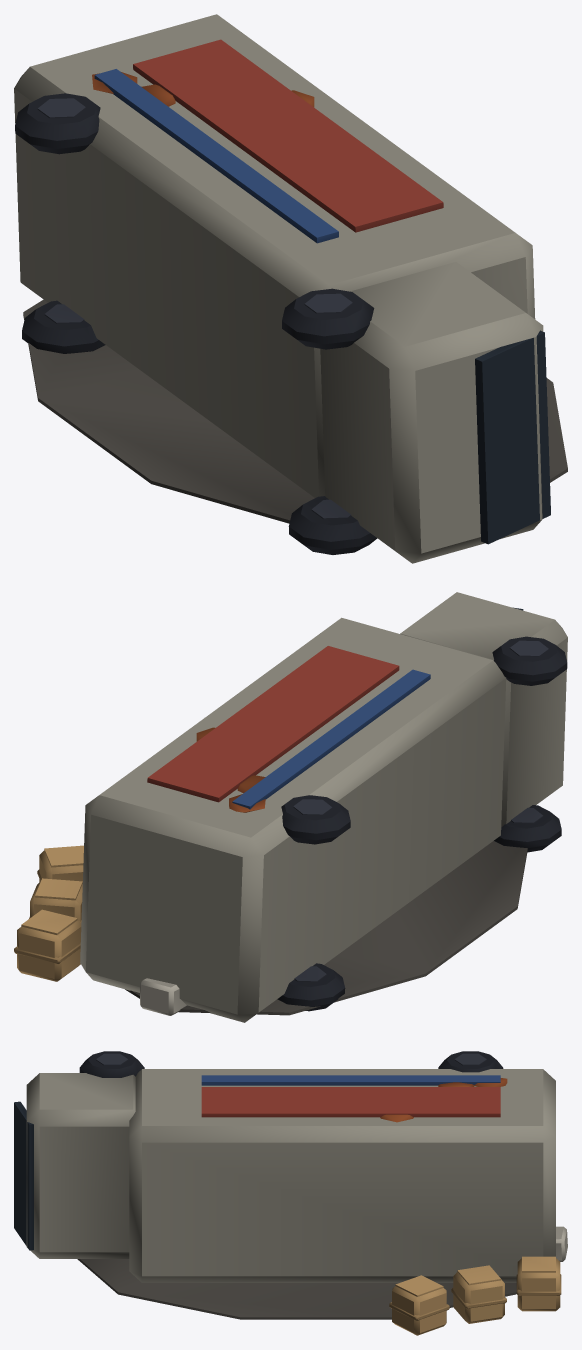
The model's file is p_st_car_2.glb.
3 views of the same model, one above another, from view 1: azimuth 30°, elevation 25°; view 2: azimuth 150°, elevation 25°; view 3: azimuth 270°, elevation 25° (orthographic). The views are drawn at different scales.
Visible parts, largest first — view 1: body; view 2: body; view 3: body.
Boxes of the visible parts, x1,y1,x2,y2 form: body: (14,14,567,563); body: (14,592,567,1022); body: (14,1051,567,1335).
Size of the model in its own units: 4.18 by 2.23 by 6.49.
